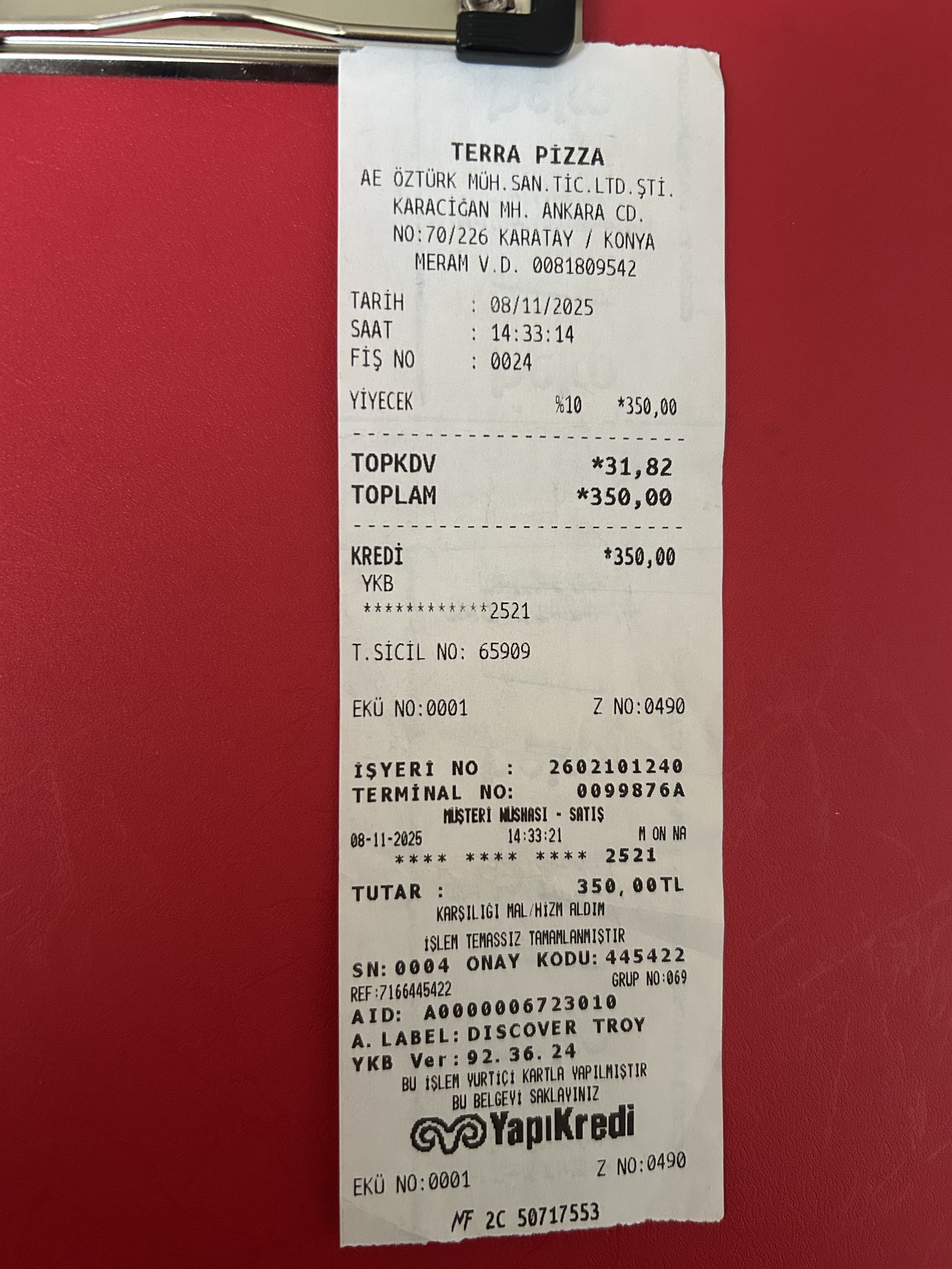date: (587, 478, 682, 515)
price: (487, 287, 597, 319)
workplace: (351, 137, 681, 254)
